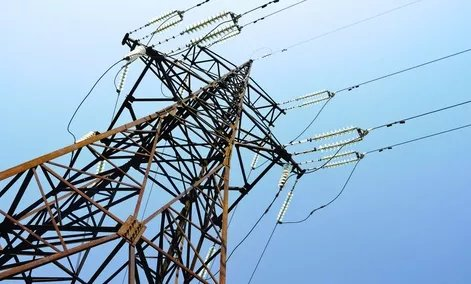isolator: (184, 11, 238, 46), (313, 124, 361, 152), (149, 9, 183, 35), (322, 148, 358, 169), (198, 244, 216, 280), (276, 191, 294, 222), (299, 88, 331, 105), (278, 163, 292, 188), (127, 45, 147, 62), (117, 63, 128, 93), (74, 131, 97, 143), (250, 149, 261, 169), (96, 160, 106, 174)
